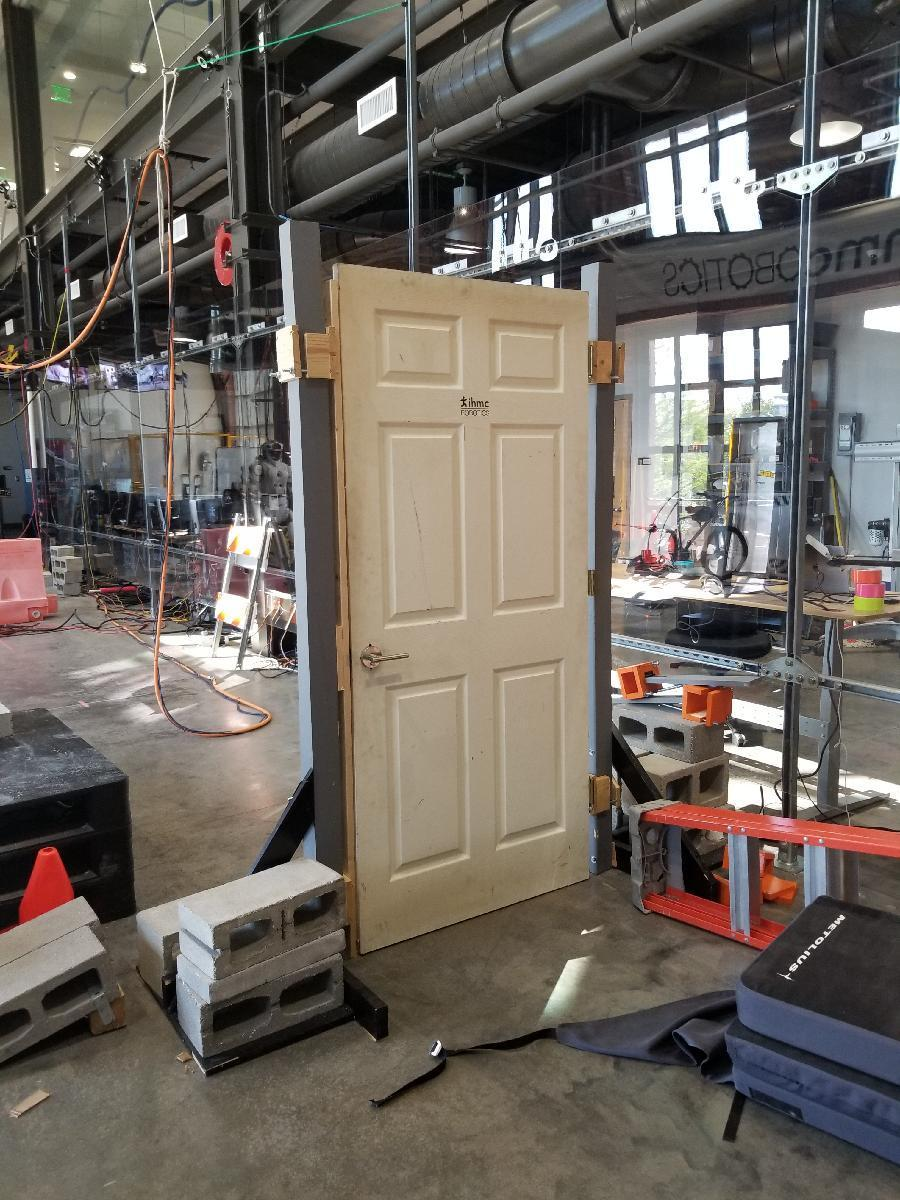door: (336, 258, 600, 929)
handle: (360, 636, 414, 676)
